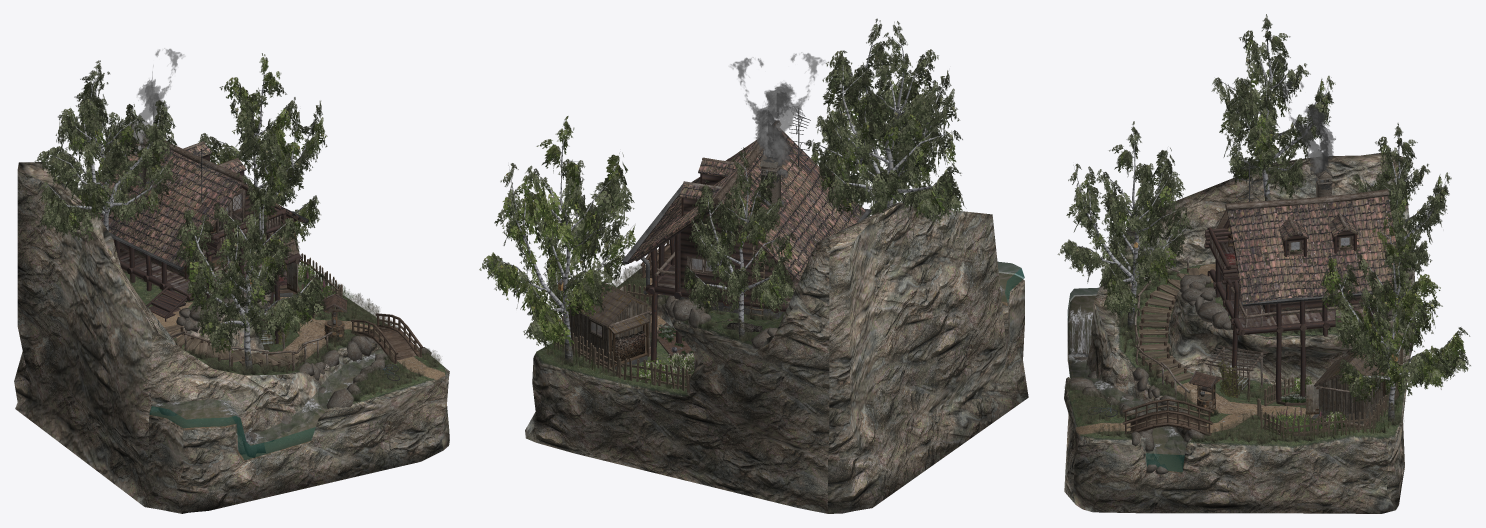
Rendered from dae_diorama_-_grandmas_house.glb.
3 renders of one model, left to right at view 1: azimuth 30°, elevation 25°; view 2: azimuth 150°, elevation 25°; view 3: azimuth 270°, elevation 25°, orthographic. The views are drawn at different scales.
Parts seen in each view (by area): view 1: SM_Groundplane, SM_Trees, SM_House, SM_River, SM_Grass, SM_Rocks river, SM_Stairs, SM_Grass.001, SM_Bridge, SM_Smoke, SM_Rocks house, SM_Well (+2 smaller); view 2: SM_Groundplane, SM_Trees, SM_House, SM_Summer kitchen, SM_Smoke, SM_Grass, SM_Fence, SM_Rocks house, SM_Roses, SM_River, SM_Dirt; view 3: SM_Groundplane, SM_Trees, SM_House, SM_Grass, SM_River, SM_Stairs, SM_Summer kitchen, SM_Rocks river, SM_Fence, SM_Grass.001, SM_Bridge, SM_Smoke (+6 smaller).
Boxes of the visible parts, x1,y1,x2,y2 form: SM_Groundplane: [14, 162, 449, 513]; SM_Trees: [34, 53, 328, 371]; SM_House: [81, 124, 308, 344]; SM_River: [149, 348, 385, 460]; SM_Grass: [122, 263, 440, 403]; SM_Rocks river: [158, 327, 431, 457]; SM_Stairs: [164, 324, 331, 371]; SM_Grass.001: [252, 293, 441, 394]; SM_Bridge: [350, 313, 422, 363]; SM_Smoke: [131, 48, 184, 153]; SM_Rocks house: [176, 274, 274, 333]; SM_Well: [322, 293, 347, 341]; SM_Groundplane: [525, 202, 1028, 513]; SM_Trees: [479, 18, 966, 362]; SM_House: [622, 106, 871, 363]; SM_Summer kitchen: [562, 283, 681, 369]; SM_Smoke: [730, 52, 824, 179]; SM_Grass: [544, 263, 784, 389]; SM_Fence: [553, 284, 691, 392]; SM_Rocks house: [664, 295, 777, 349]; SM_Roses: [635, 352, 694, 384]; SM_River: [997, 261, 1024, 302]; SM_Dirt: [571, 156, 796, 363]; SM_Groundplane: [1064, 153, 1415, 513]; SM_Trees: [1057, 14, 1470, 421]; SM_House: [1204, 163, 1404, 401]; SM_Grass: [1064, 268, 1408, 445]; SM_River: [1067, 287, 1187, 472]; SM_Stairs: [1134, 255, 1199, 401]; SM_Summer kitchen: [1306, 351, 1386, 428]; SM_Rocks river: [1067, 356, 1204, 474]; SM_Fence: [1257, 347, 1402, 438]; SM_Grass.001: [1069, 318, 1287, 441]; SM_Bridge: [1122, 398, 1212, 435]; SM_Smoke: [1276, 80, 1335, 182].
Size of the model in its own units: 23.79 by 25.07 by 25.31.
Materials: 40 (39 with a texture image).
